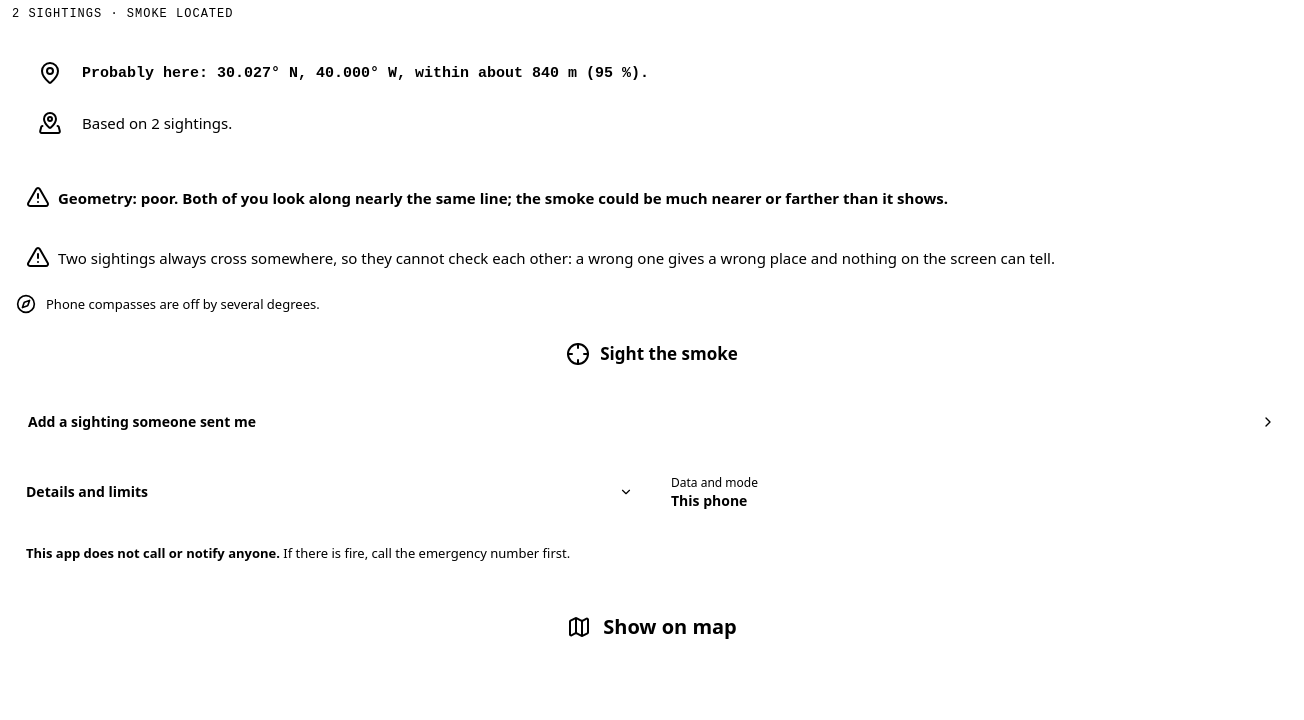
Test: still asks once before it deletes, and the privacy page is still reachable
Later steps or results of the test are not shown.
What coordinates should you click on to do the following:
click the button "Data and mode This phone"
I would click on:
 (714, 482)
Its box is x1=657 y1=462 x2=1292 y2=522.
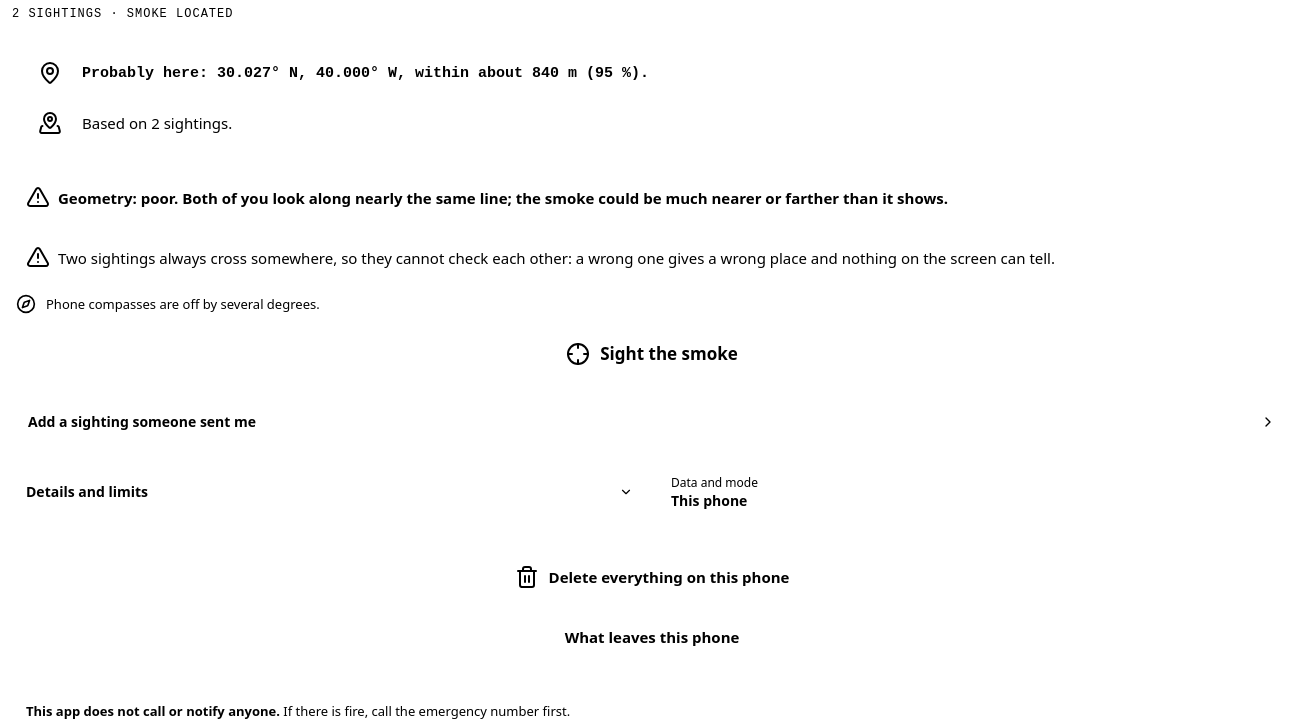
What coordinates should you click on to do the following:
click the button "Delete everything on this phone"
I would click on:
 (652, 577)
Its box is x1=30 y1=552 x2=1274 y2=602.
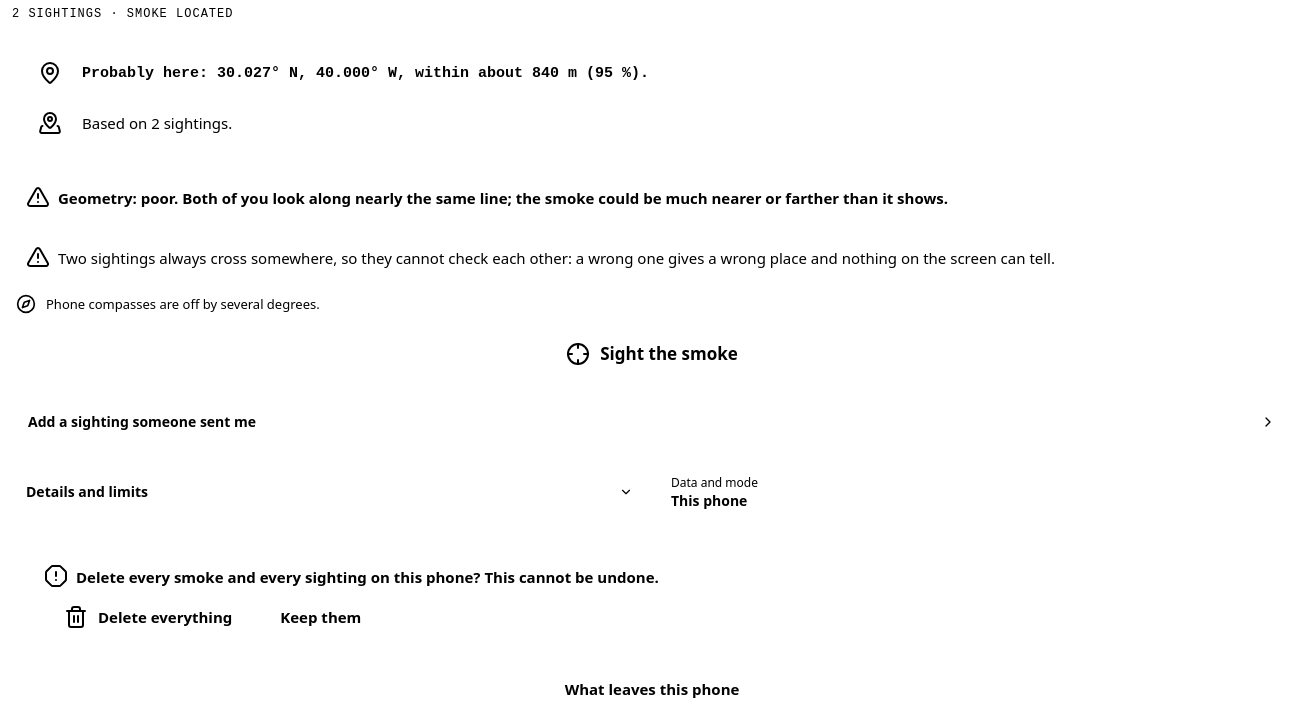
Result: the element with test id "delete-all-dialog" is shown at x1=44 y1=564 x2=659 y2=642
